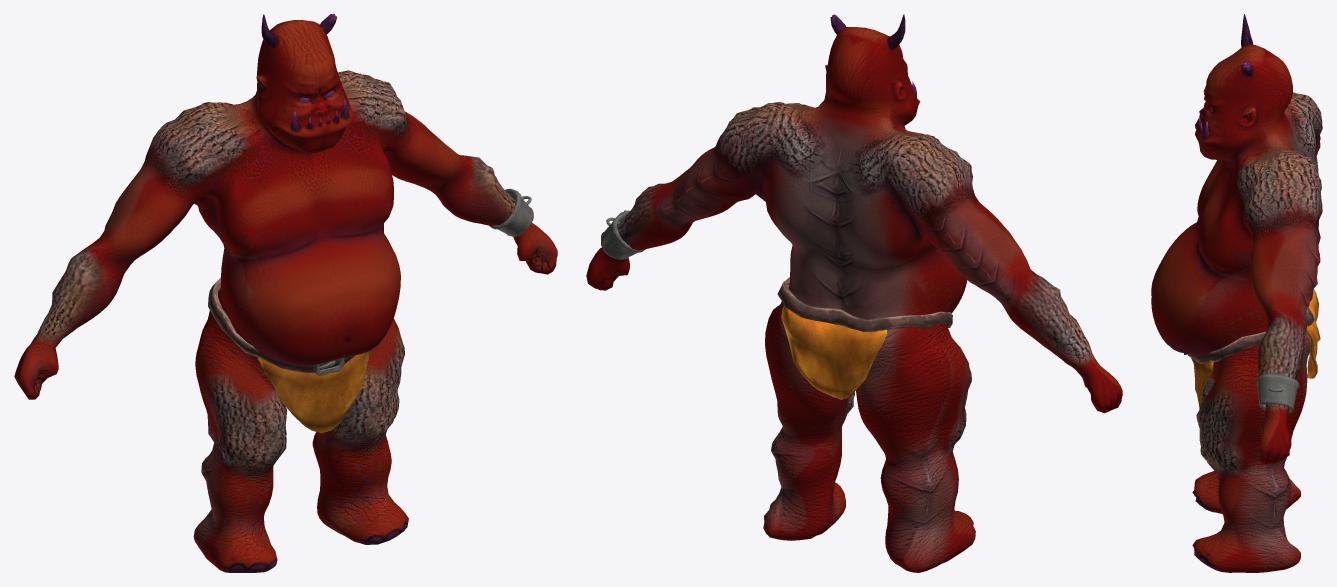
The picture shows the model from 3 angles, left to right: view 1: azimuth 30°, elevation 25°; view 2: azimuth 150°, elevation 25°; view 3: azimuth 270°, elevation 25°; orthographic projection. The views are drawn at different scales.
Parts seen in each view (by area): view 1: Orc_Body_Low_Poly_Cube.007, Loin_Cloth_Front_LP_Plane.001, Belt_LP_Plane, Shackle_LP_Cylinder.003; view 2: Orc_Body_Low_Poly_Cube.007, Loin_Cloth_Back_LP_Plane.005, Belt_LP_Plane, Shackle_LP_Cylinder.003; view 3: Orc_Body_Low_Poly_Cube.007, Shackle_LP_Cylinder.003, Belt_LP_Plane, Loin_Cloth_Back_LP_Plane.005, Loin_Cloth_Front_LP_Plane.001, Horn_Right_LP_Cube.011.
Part boxes in pixels (<box>): Orc_Body_Low_Poly_Cube.007: <box>14,20,557,572</box>; Loin_Cloth_Front_LP_Plane.001: <box>257,350,370,433</box>; Belt_LP_Plane: <box>208,277,355,373</box>; Shackle_LP_Cylinder.003: <box>489,188,533,236</box>; Orc_Body_Low_Poly_Cube.007: <box>586,27,1122,572</box>; Loin_Cloth_Back_LP_Plane.005: <box>781,306,887,399</box>; Belt_LP_Plane: <box>777,277,952,331</box>; Shackle_LP_Cylinder.003: <box>601,210,645,259</box>; Orc_Body_Low_Poly_Cube.007: <box>1151,44,1322,572</box>; Shackle_LP_Cylinder.003: <box>1256,373,1299,412</box>; Belt_LP_Plane: <box>1187,291,1314,363</box>; Loin_Cloth_Back_LP_Plane.005: <box>1305,289,1320,378</box>; Loin_Cloth_Front_LP_Plane.001: <box>1191,358,1213,408</box>; Horn_Right_LP_Cube.011: <box>1241,14,1253,47</box>.
Size of the model in its own units: 2.55 by 2.47 by 0.7555.
1 material, 1 textured.
